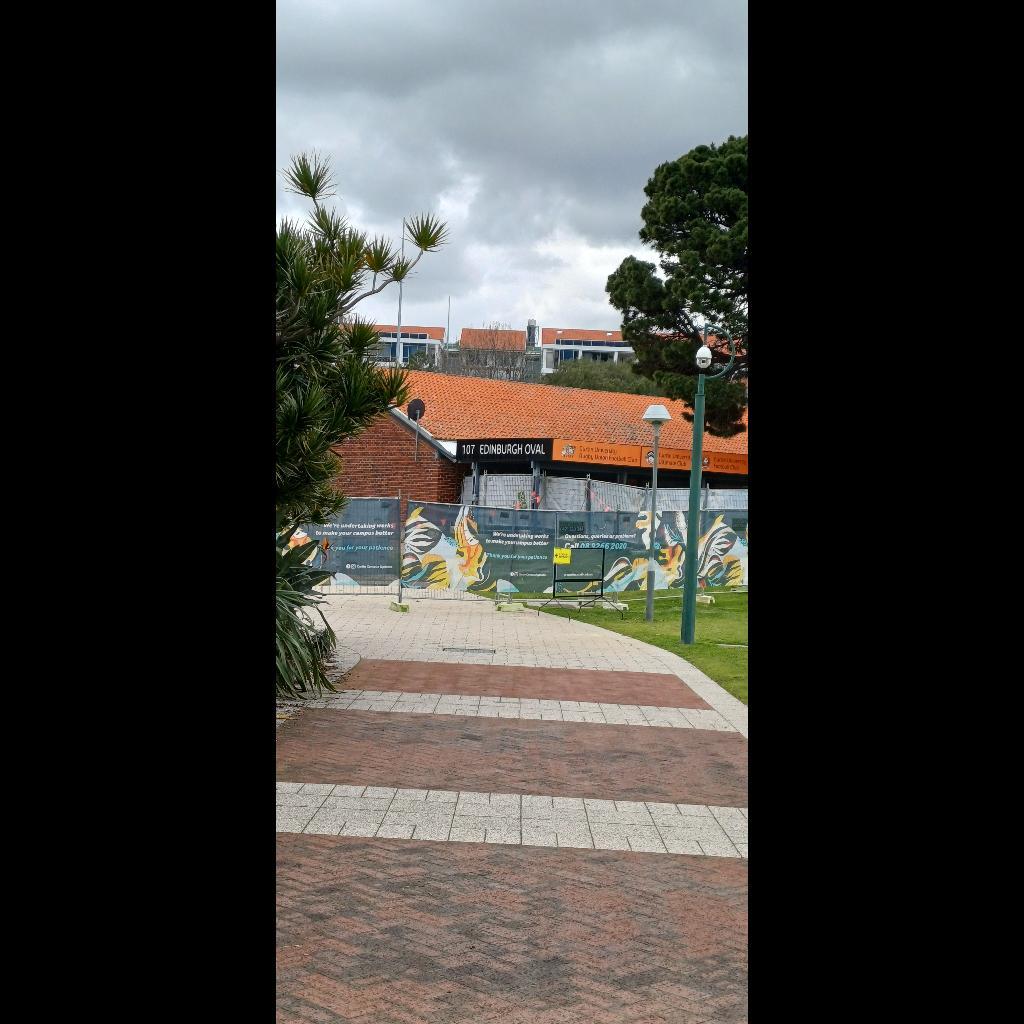BuildingCodes: (460, 439, 478, 459)
